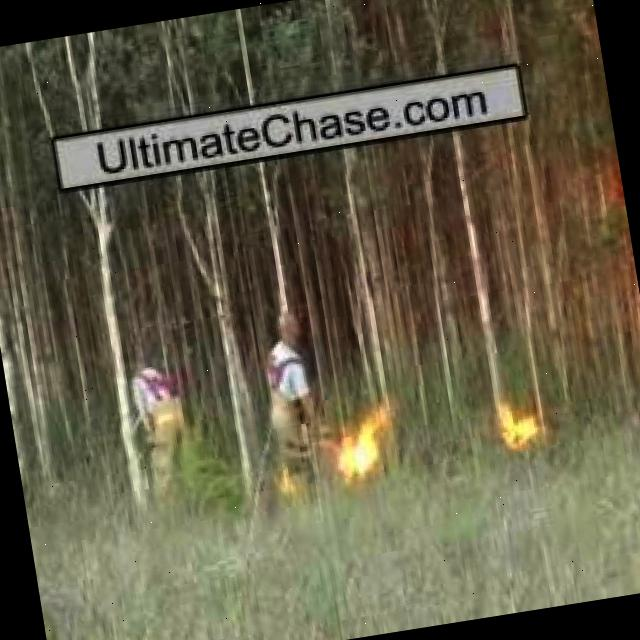fire: (332, 416, 394, 479), (501, 410, 545, 456), (278, 474, 294, 498)
